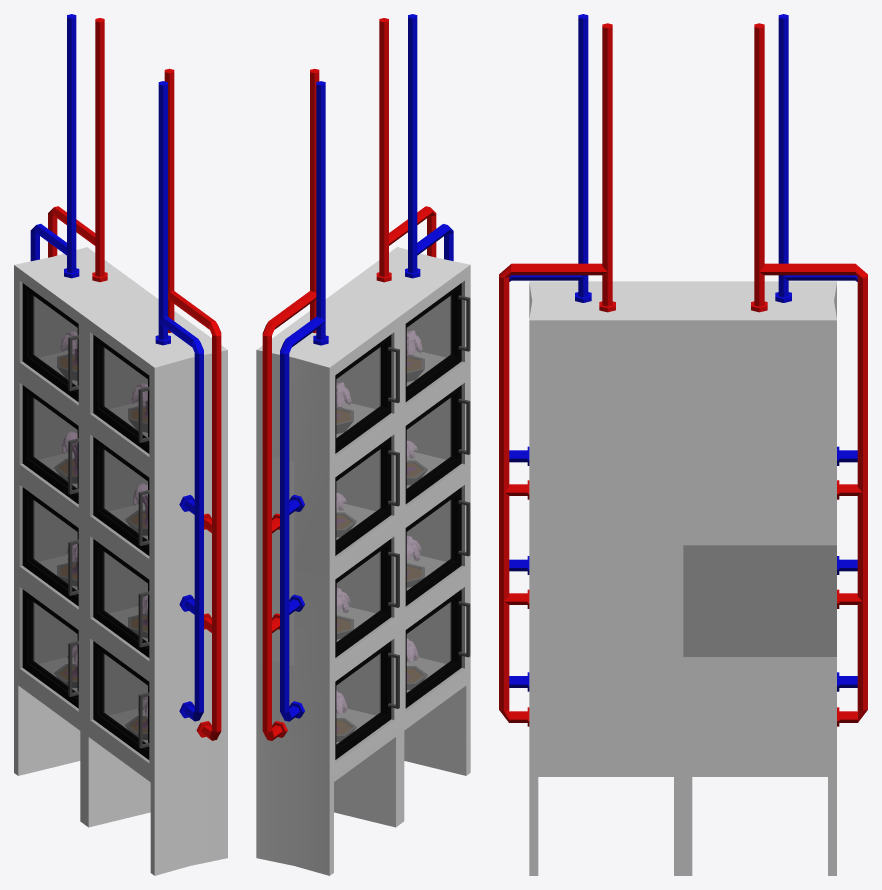
Rendered from estufa1.fbx.
3 views of the same model, side by side, from view 1: azimuth 30°, elevation 25°; view 2: azimuth 150°, elevation 25°; view 3: azimuth 270°, elevation 25° (orthographic). The views are drawn at different scales.
Parts seen in each view (by area): view 1: estufa4; view 2: estufa4; view 3: estufa4.
Part boxes in pixels (<box>): estufa4: <box>14,14,227,875</box>; estufa4: <box>256,14,470,875</box>; estufa4: <box>499,14,867,875</box>.
Bounding box in the file's own units: 0.3295 × 3 × 1.2.
